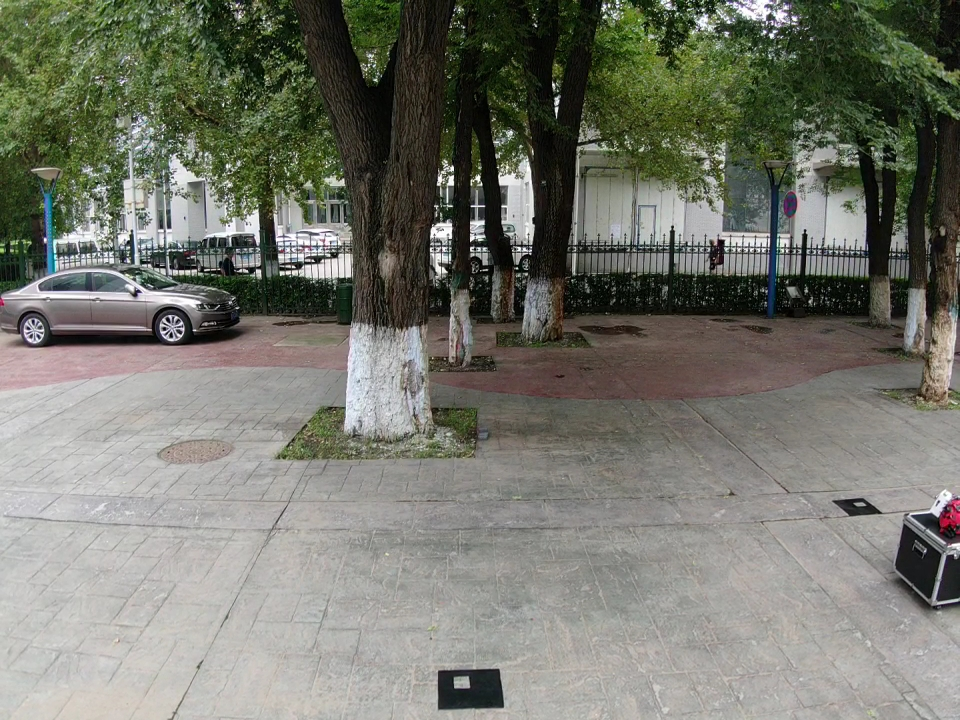box: (894, 511, 960, 603)
helmet: (938, 496, 960, 540)
qrcode: (438, 669, 504, 708), (832, 498, 883, 517)
